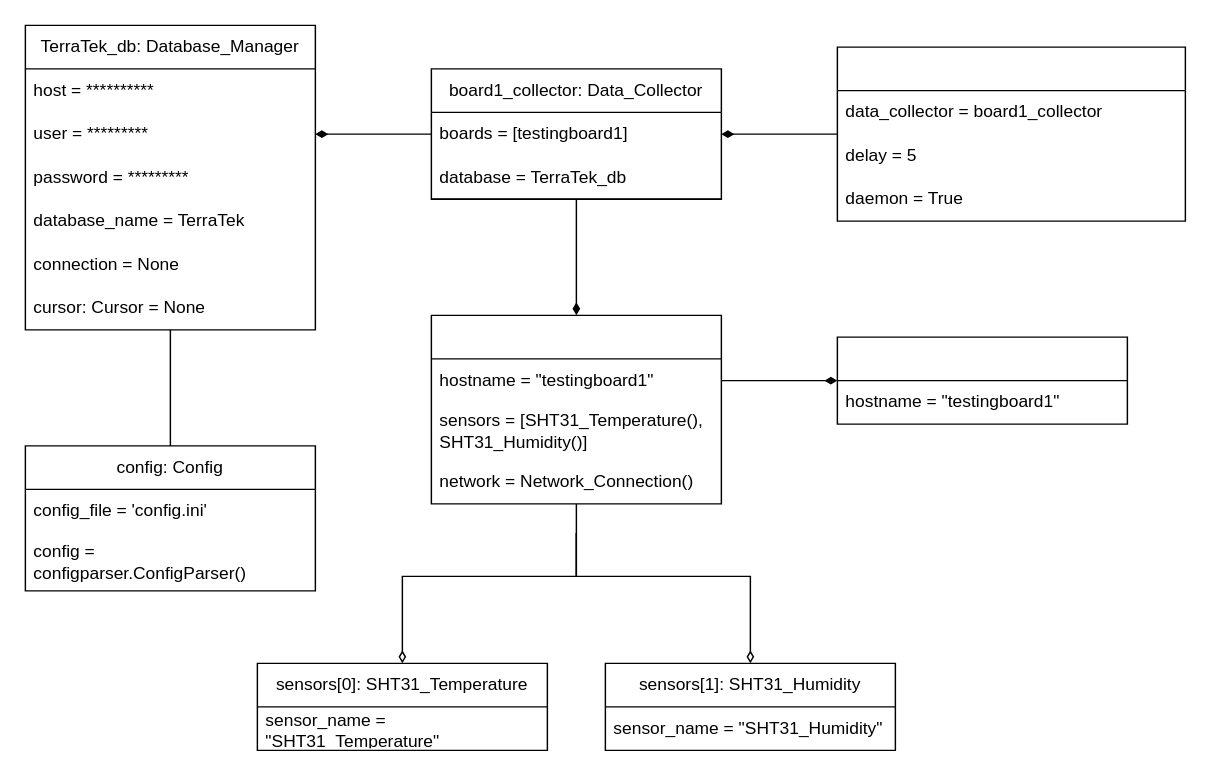
Some shapes in this 1211 by 776 pixel diagram are drawn without their labels. Each missing label, with the box of its shape:
board1_daemon: Data_Collector_Daemon: (836, 46, 1185, 221)
network: Network_Connection: (836, 336, 1127, 424)
testingboard1: Board: (430, 314, 721, 504)
